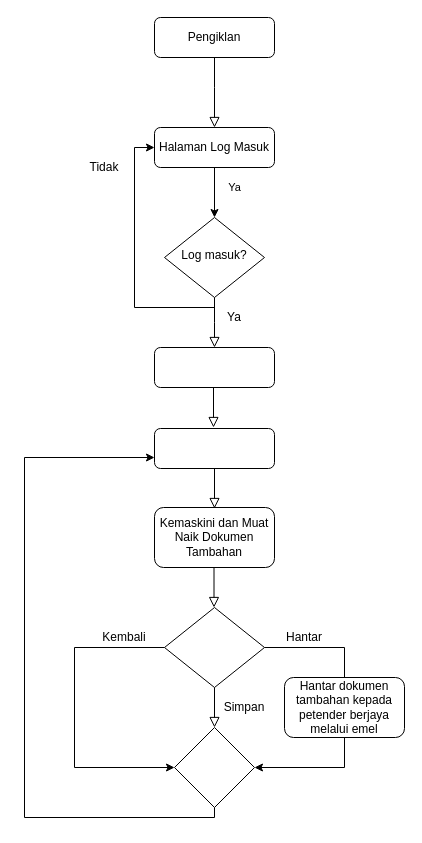
Some shapes in this 422 by 843 pixel diagram are drawn without their labels. Here are the shapes that lost their labels. From the top down, the centre of each, then its label:
At pixel 214 367: "SPAQ landing page".
At pixel 214 448: "Senarai Iklan Belum Tutup".
